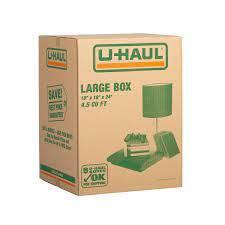box: (38, 33, 182, 195)
